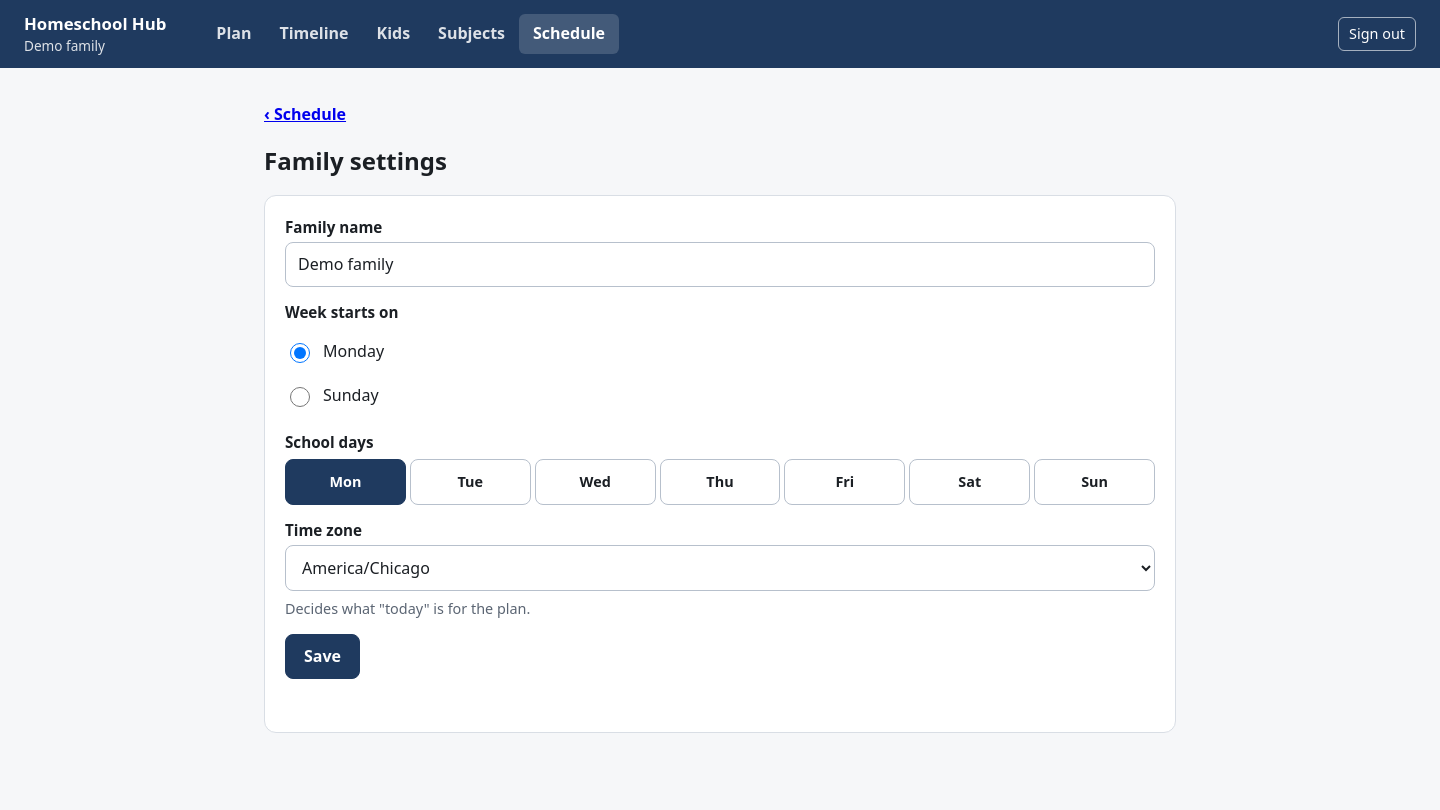
Test: Family settings form › no school days → error, no request
The width and height of the screenshot is (1440, 810).
Check: the form named "Family settings" is shown, box [264, 195, 1176, 733]
Click the checkbox named "Monday" at (345, 482), box [285, 459, 406, 505]
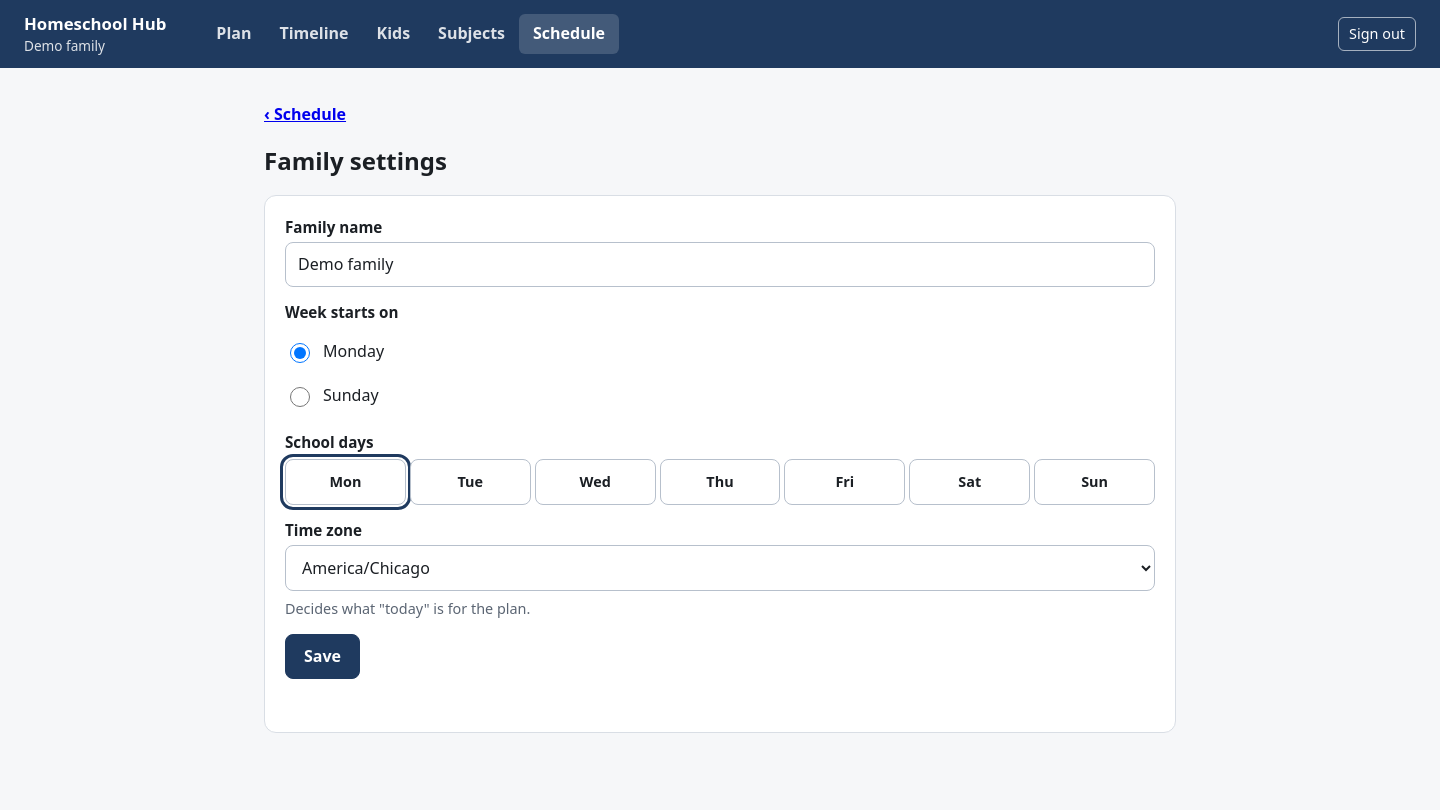
Click the button "Save" at (322, 657), box [285, 634, 360, 679]
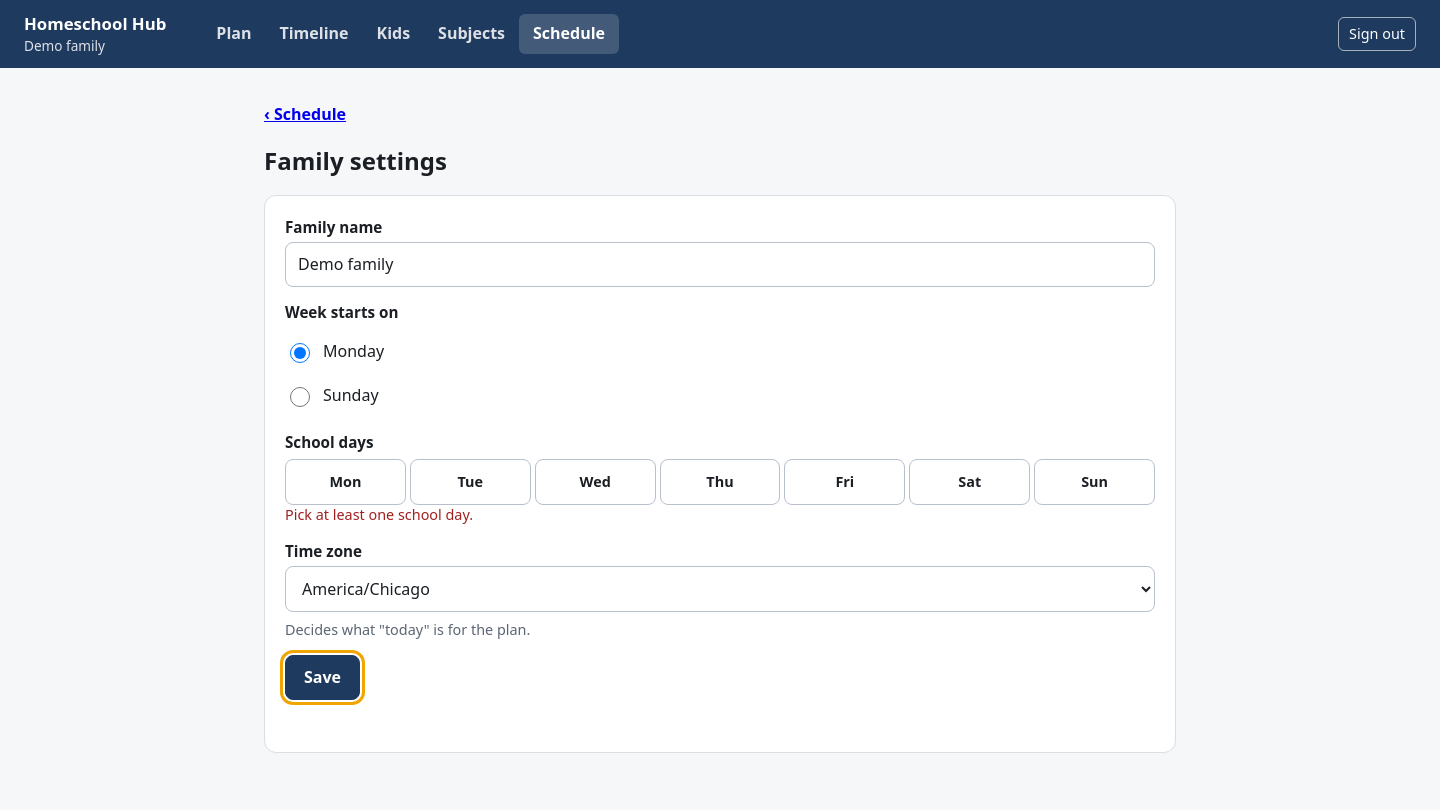
Check: the text "Pick at least one school day." is shown, box [285, 505, 473, 524]
